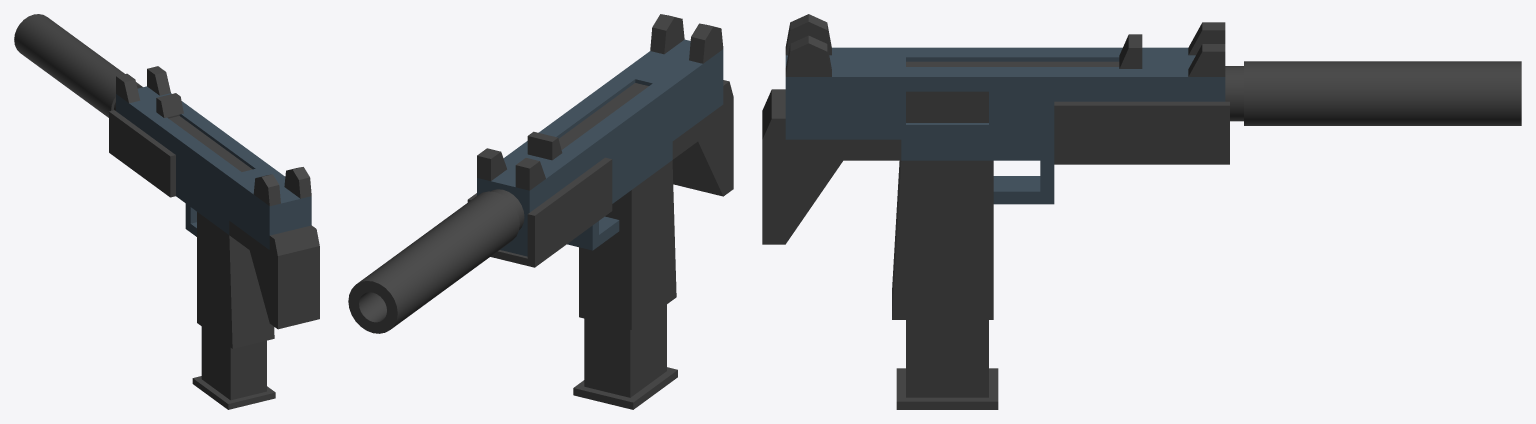
File: uziLongSilencer.obj
3 views of the same model, side by side, from view 1: azimuth 30°, elevation 25°; view 2: azimuth 150°, elevation 25°; view 3: azimuth 270°, elevation 25° (orthographic). The views are drawn at different scales.
Visible parts, largest first — view 1: Group; view 2: Group; view 3: Group.
Boxes of the visible parts, x1,y1,x2,y2 form: Group: (14,14,319,409); Group: (348,14,733,409); Group: (762,14,1521,409).
Bounding box in the file's own units: 0.0727 × 0.333 × 0.6282.
